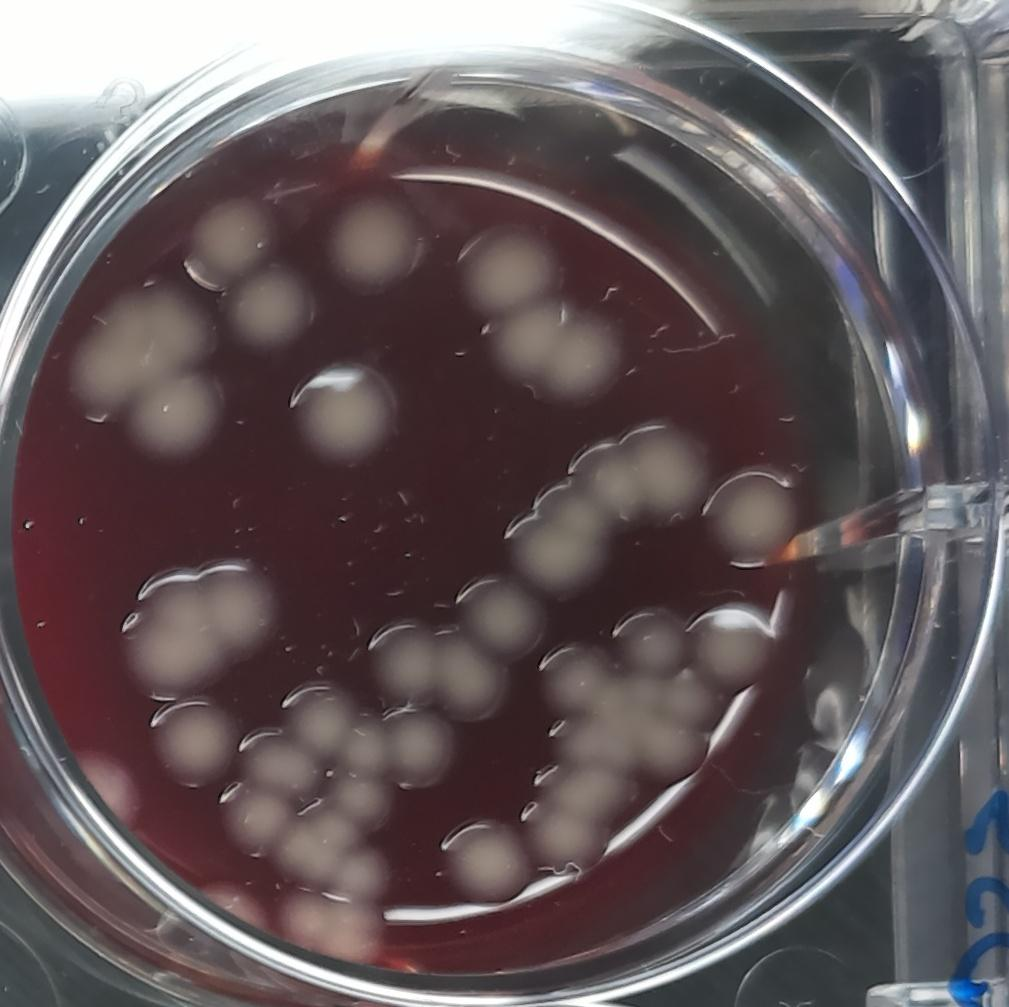vharveyi: (509, 422, 708, 603), (71, 285, 226, 463), (362, 578, 546, 721), (217, 680, 354, 858), (118, 561, 276, 701), (286, 786, 394, 969), (526, 715, 640, 880), (481, 297, 623, 407), (287, 359, 401, 471), (455, 221, 562, 326), (324, 193, 426, 295), (704, 465, 799, 572), (431, 814, 535, 909), (223, 260, 316, 357), (183, 193, 276, 289), (682, 601, 775, 696), (152, 698, 244, 793), (373, 708, 460, 793), (609, 598, 690, 681), (535, 639, 611, 718)
